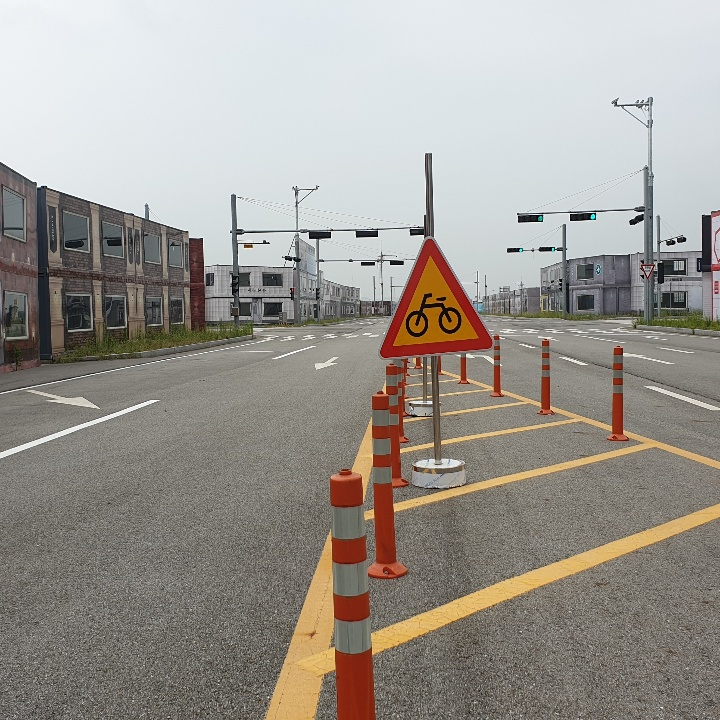bicycle: (377, 237, 491, 359)
